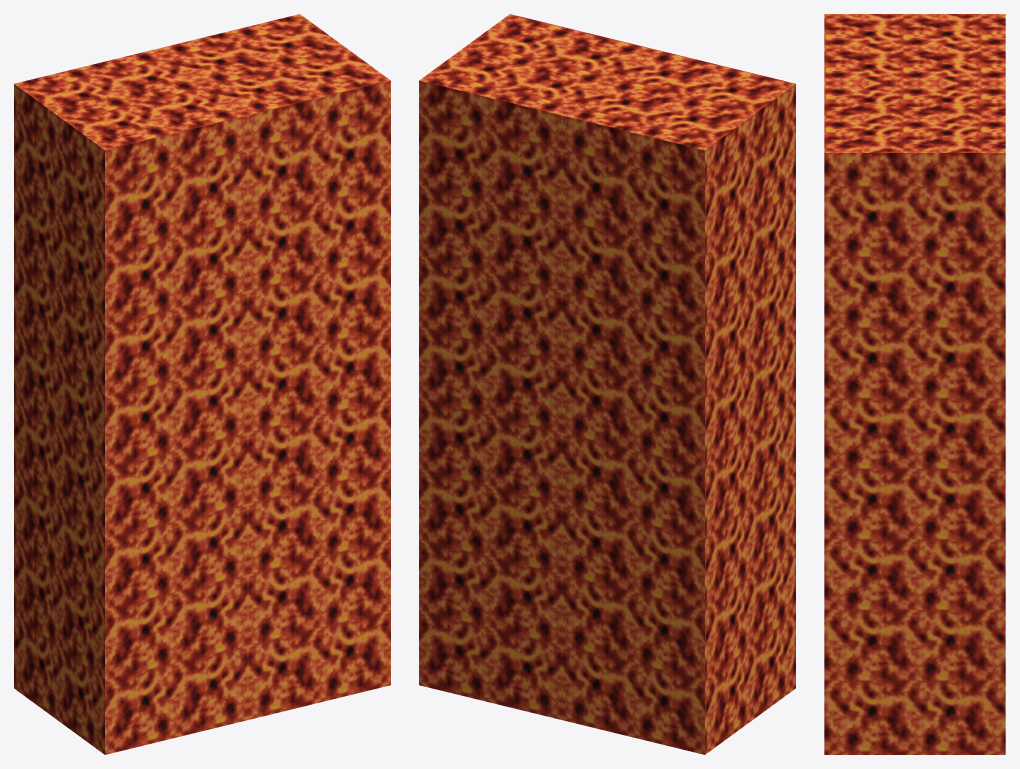
File: lava.obj
3 renders of one model, left to right at view 1: azimuth 30°, elevation 25°; view 2: azimuth 150°, elevation 25°; view 3: azimuth 270°, elevation 25°, orthographic.
Parts seen in each view (by area): view 1: lava; view 2: lava; view 3: lava.
Boxes of the visible parts, left/top/right/bottom form: lava: left=14, top=14, right=390, bottom=754; lava: left=419, top=14, right=795, bottom=754; lava: left=824, top=14, right=1005, bottom=754.
Bounding box in the file's own units: 21.04 × 42.51 × 11.59.
Materials: 1 (1 with a texture image).
